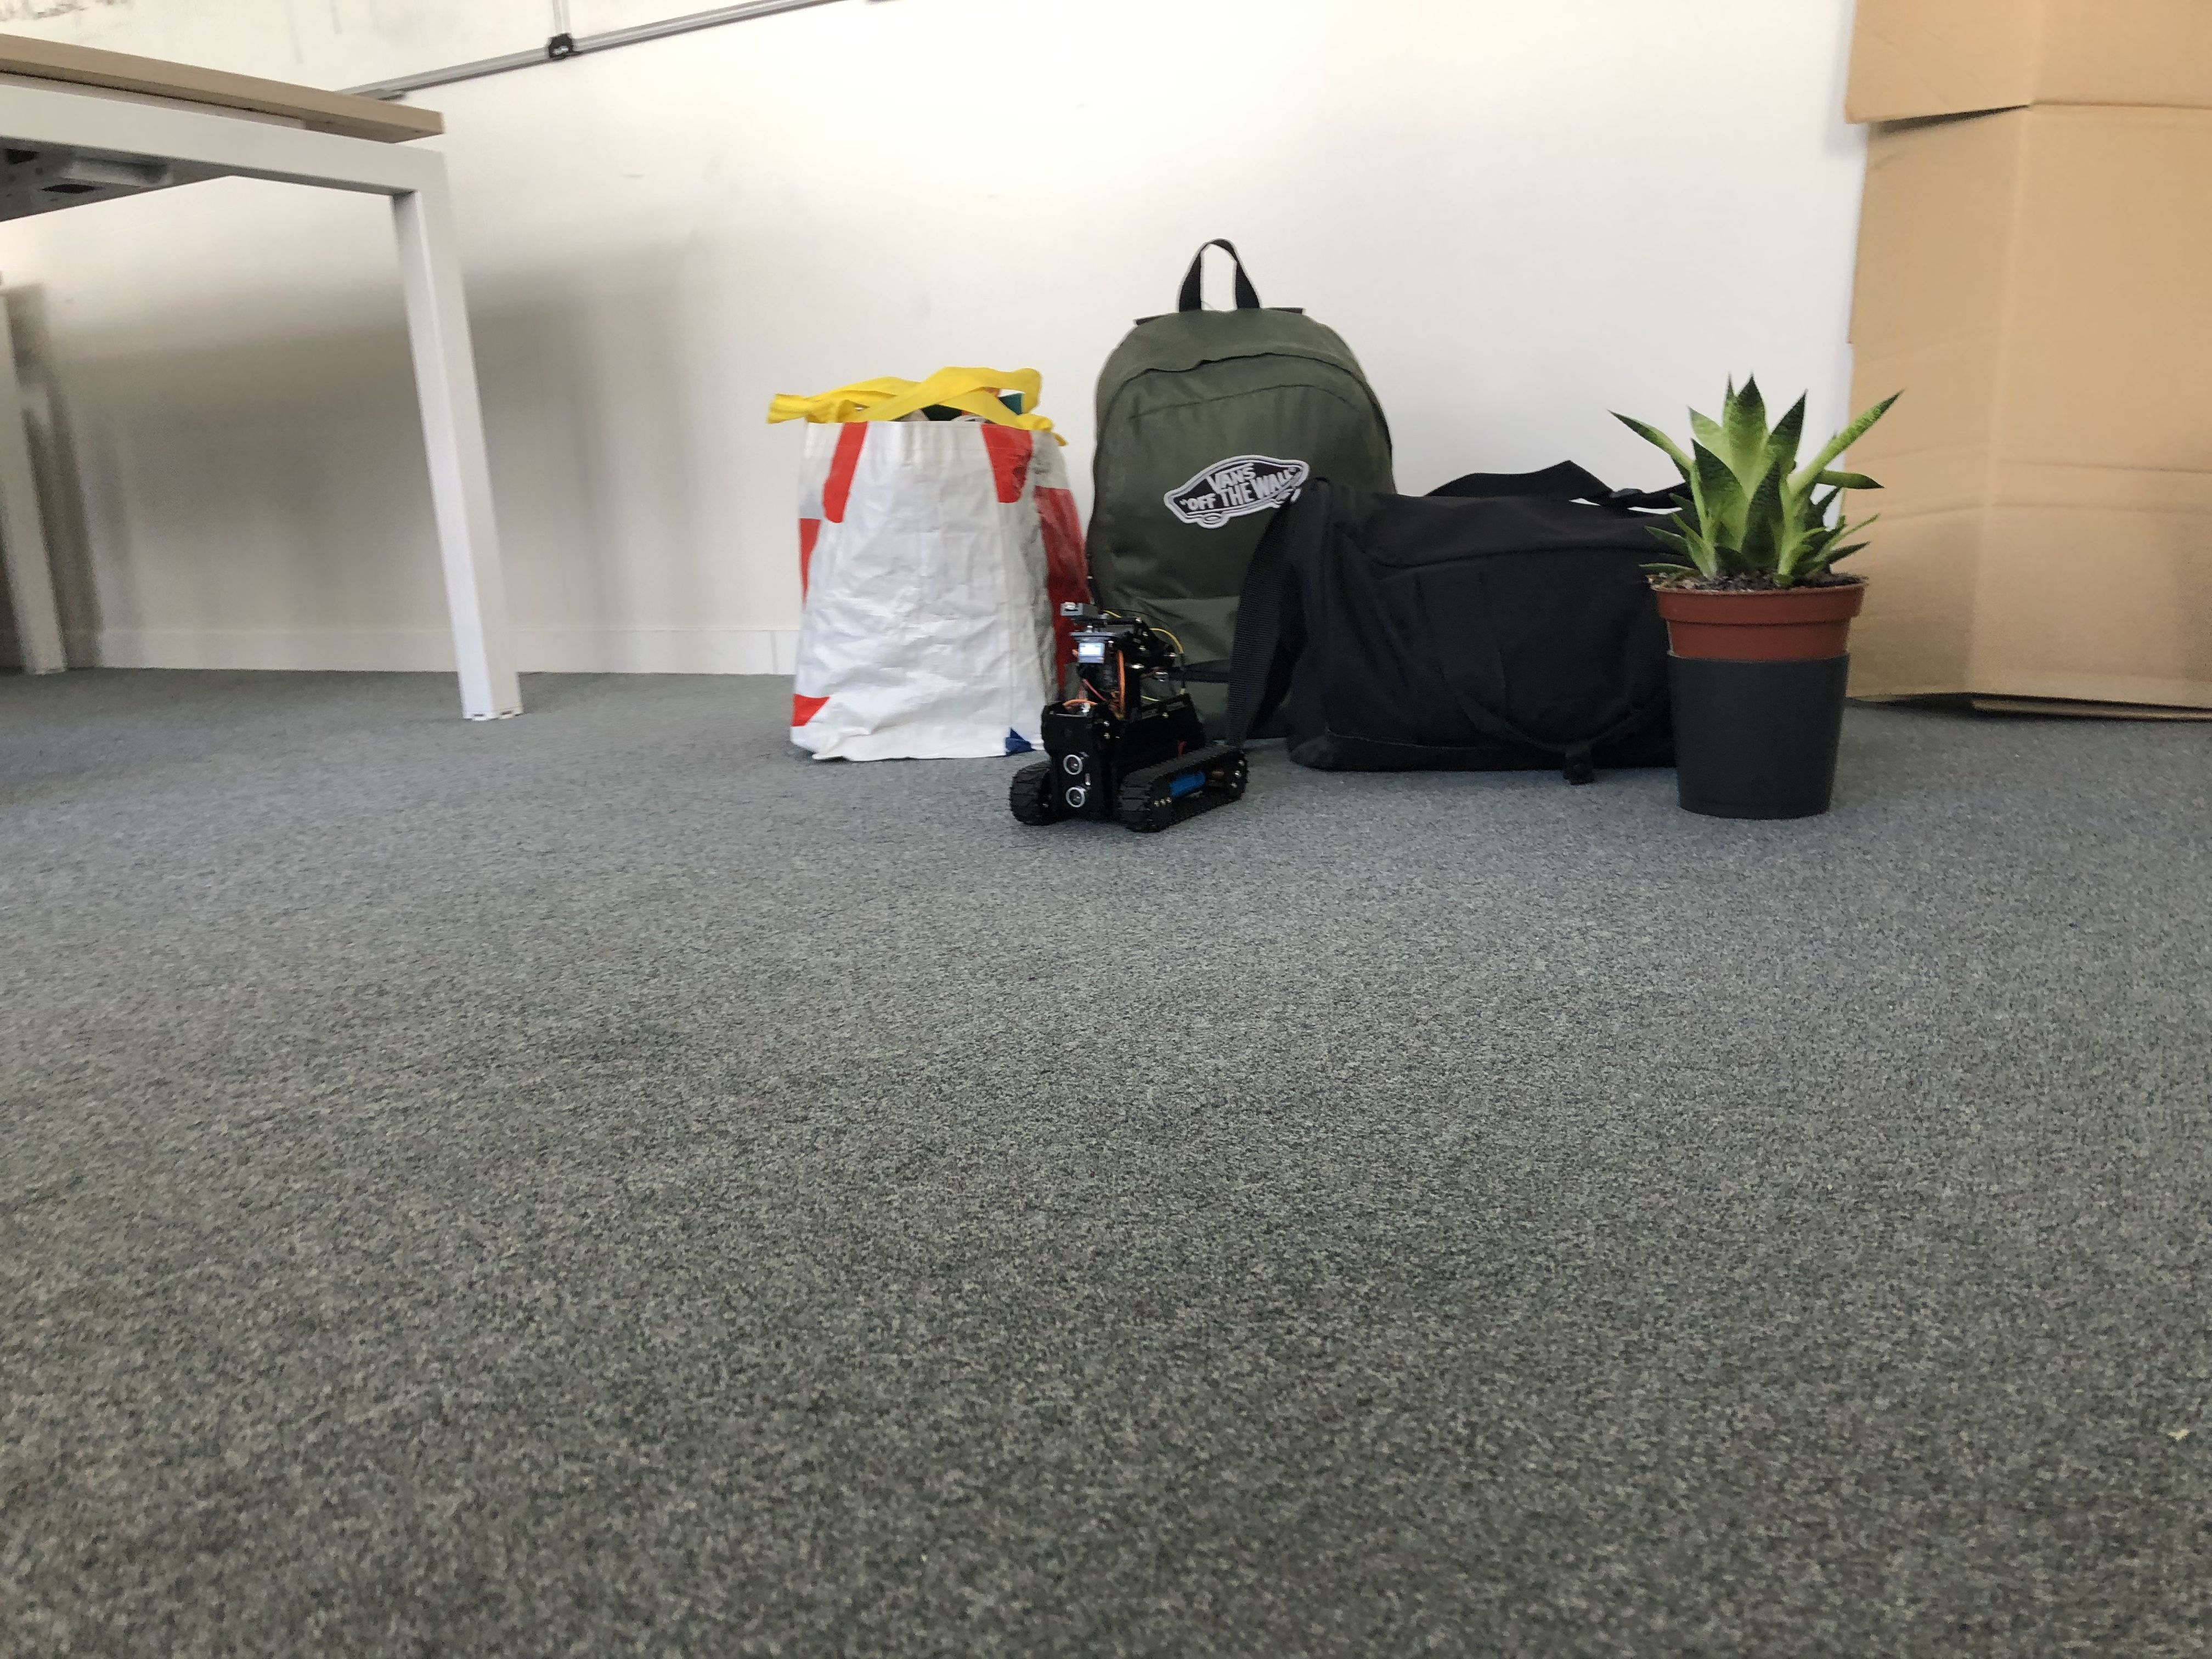rasptank: (1001, 592, 1258, 840)
